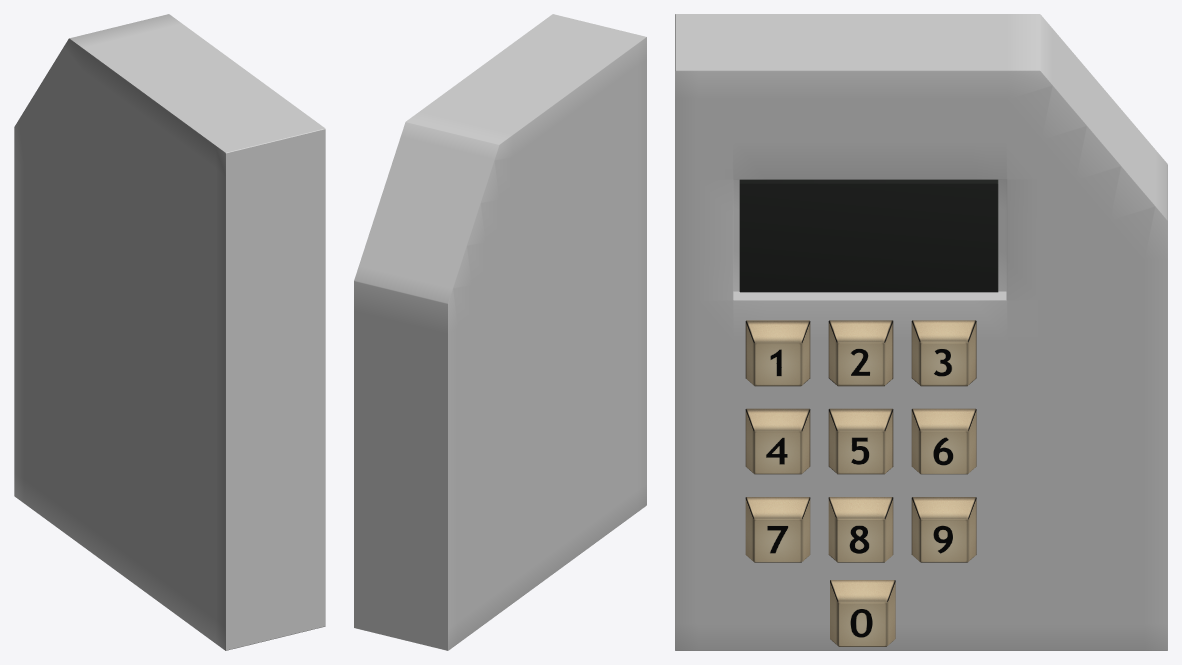
File: Keypad.fbx
The picture shows the model from 3 angles, left to right: view 1: azimuth 30°, elevation 25°; view 2: azimuth 150°, elevation 25°; view 3: azimuth 270°, elevation 25°; orthographic projection. The views are drawn at different scales.
Parts seen in each view (by area): view 1: Keypad; view 2: Keypad; view 3: Keypad, KeypadScreen, KPAD_Key0, KPAD_Key4, KPAD_Key5, KPAD_Key6, KPAD_Key3, KPAD_Key1, KPAD_Key2, KPAD_Key7, KPAD_Key8, KPAD_Key9.
Boxes of the visible parts, x1,y1,x2,y2 form: Keypad: (14, 14, 325, 650); Keypad: (354, 14, 646, 650); Keypad: (675, 14, 1167, 650); KeypadScreen: (739, 179, 998, 292); KPAD_Key0: (830, 580, 895, 646); KPAD_Key4: (745, 408, 810, 474); KPAD_Key5: (828, 408, 893, 474); KPAD_Key6: (911, 408, 976, 474); KPAD_Key3: (911, 320, 976, 386); KPAD_Key1: (745, 320, 810, 386); KPAD_Key2: (828, 320, 893, 386); KPAD_Key7: (745, 497, 810, 562); KPAD_Key8: (828, 497, 893, 562); KPAD_Key9: (911, 497, 976, 562).
Size of the model in its own units: 29.6 by 85.83 by 111.
Materials: 3 (2 with a texture image).
